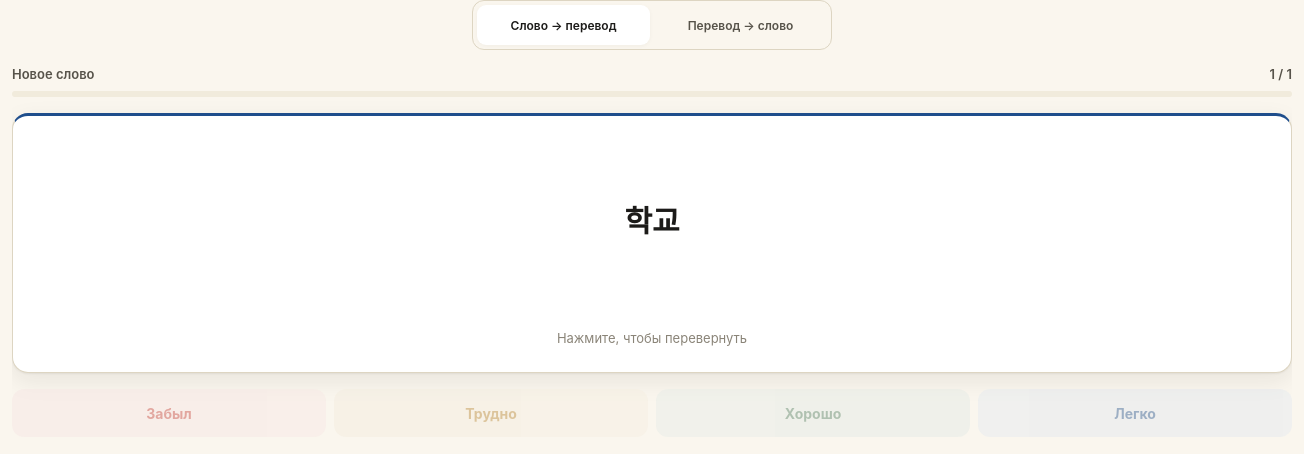
Test: при смене направления закрывает ответ, сохраняя прогресс сессии
Click the button with aria-label "Показать ответ".
click(652, 243)  # box [12,113,1292,373]
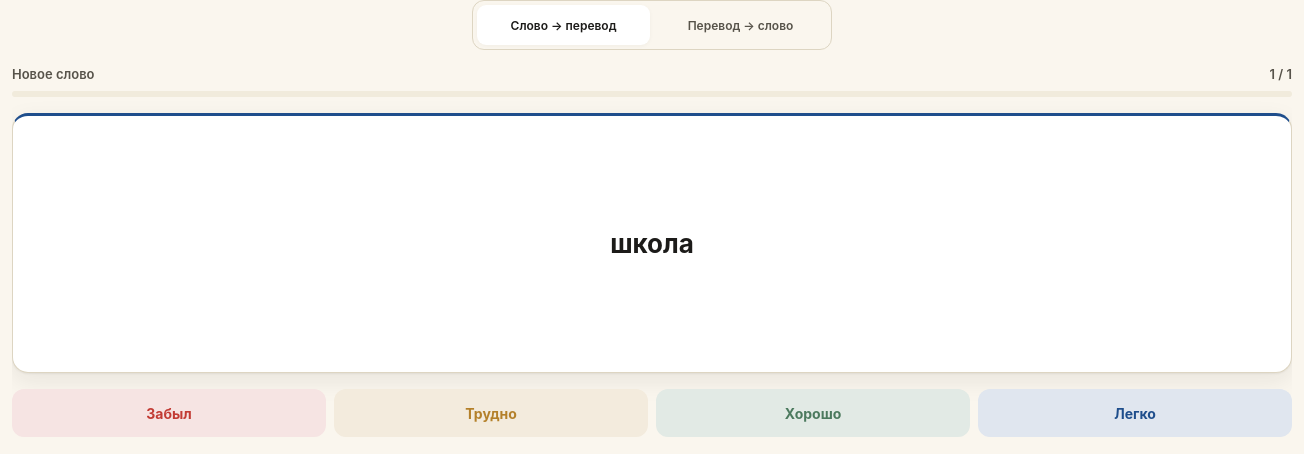
Click the button "Перевод → слово".
click(740, 25)  # box [654,5,827,45]
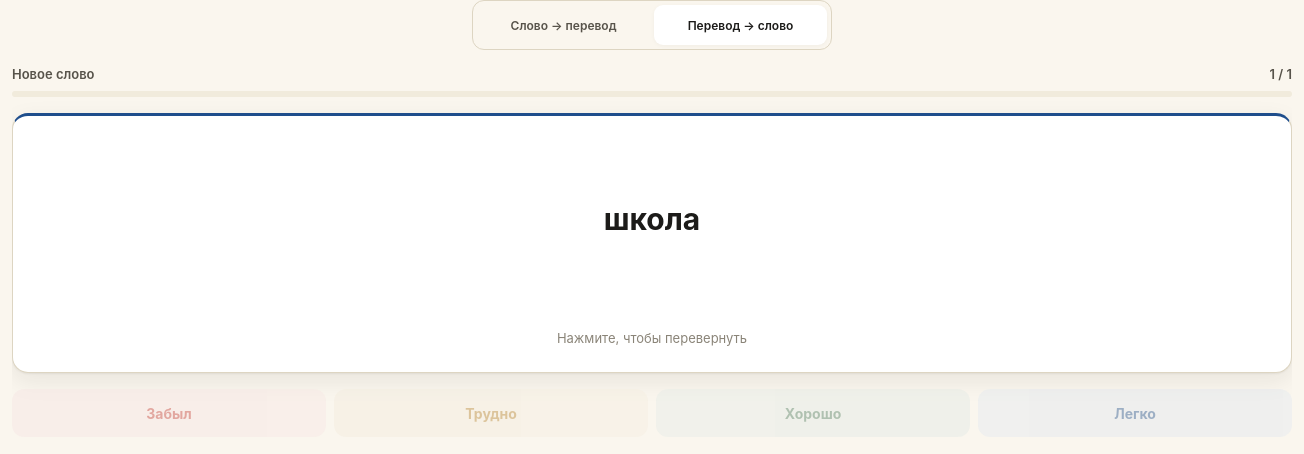
Expected: the button with aria-label "Показать ответ" is shown, [12,113,1292,373]
Expected: the button "Хорошо" is disabled, [656,389,970,437]
